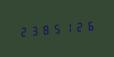eight: (39, 21, 49, 37)
five: (50, 20, 60, 36)
one: (61, 19, 71, 35)
six: (83, 17, 93, 33)
three: (28, 22, 38, 38)
two: (17, 23, 27, 39), (72, 18, 82, 34)
